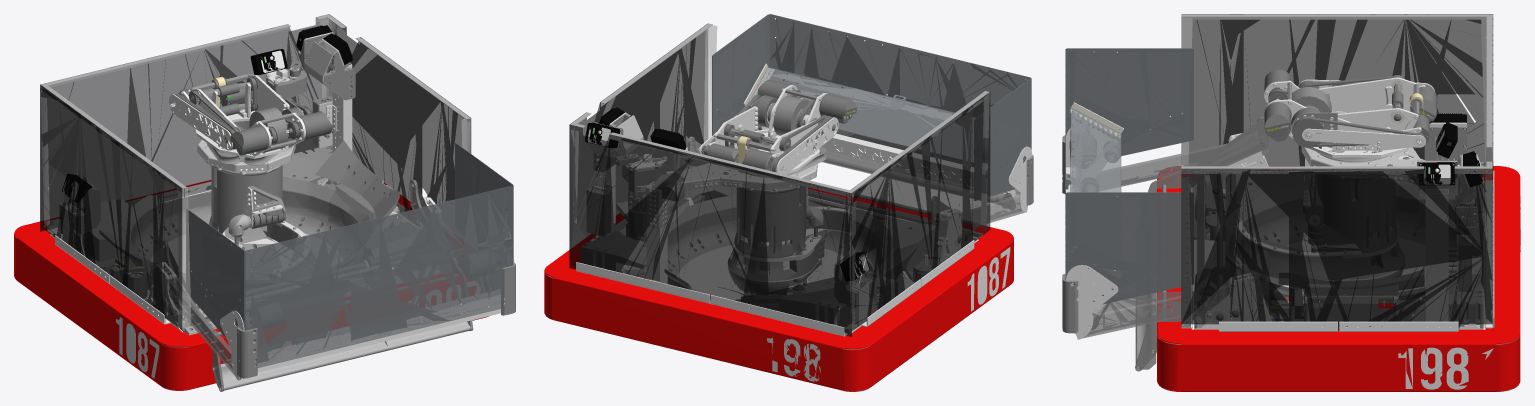
Rendered from 1987-cyclone.fbx.
3 renders of one model, left to right at view 1: azimuth 30°, elevation 25°; view 2: azimuth 150°, elevation 25°; view 3: azimuth 270°, elevation 25°, orthographic. The views are drawn at different scales.
Visible parts, largest first — view 1: Front Hopper Wall, Hopper Wall, Rear hopper wall, Fabric, Hopper Wall Dose, Part 14.001, bar, toob 2 electric toobaloo, 2:00 Wall, 11:00 Wall, Part 14, Back Left Block (+46 smaller); view 2: Rear hopper wall, Fabric, Hopper Wall, Front Hopper Wall, Hopper Wall Dose, top ramp, toob 2 electric toobaloo, Part 14.001, Part 14, bar, Brainpan, 4:00 Wall (+48 smaller); view 3: Hopper Wall Dose, Fabric, Hopper Wall, Part 14, Part 14.001, toob 2 electric toobaloo, top ramp, rack slip & slide, Tube 2"x1"x13.001".001, arm back 3dp, rack slip & slide-Mirrored, Back Left Bumper Backer (+54 smaller).
Part boxes in pixels (x1,y1,x2,y2): Front Hopper Wall: [245, 185, 513, 367]; Hopper Wall: [40, 85, 182, 329]; Rear hopper wall: [40, 14, 328, 231]; Fabric: [14, 180, 488, 390]; Hopper Wall Dose: [329, 14, 471, 212]; Part 14.001: [186, 209, 244, 340]; bar: [257, 294, 504, 372]; toob 2 electric toobaloo: [209, 165, 285, 233]; 2:00 Wall: [282, 177, 335, 234]; 11:00 Wall: [127, 195, 177, 255]; Part 14: [455, 143, 513, 210]; Back Left Block: [61, 199, 130, 261]; Rear hopper wall: [569, 125, 851, 336]; Fabric: [544, 187, 1013, 391]; Hopper Wall: [851, 92, 990, 330]; Front Hopper Wall: [769, 14, 1030, 166]; Hopper Wall Dose: [570, 23, 707, 259]; top ramp: [748, 67, 975, 162]; toob 2 electric toobaloo: [734, 185, 806, 258]; Part 14.001: [974, 78, 1031, 200]; Part 14: [712, 14, 769, 135]; bar: [772, 126, 1010, 193]; Brainpan: [677, 242, 914, 300]; 4:00 Wall: [685, 195, 736, 252]; Hopper Wall Dose: [1181, 168, 1492, 330]; Fabric: [1157, 166, 1520, 391]; Hopper Wall: [1181, 14, 1492, 166]; Part 14: [1066, 192, 1193, 304]; Part 14.001: [1066, 48, 1193, 155]; toob 2 electric toobaloo: [1307, 174, 1396, 252]; top ramp: [1070, 107, 1121, 196]; rack slip & slide: [1082, 285, 1229, 338]; Tube 2"x1"x13.001".001: [1426, 189, 1448, 321]; arm back 3dp: [1312, 226, 1404, 279]; rack slip & slide-Mirrored: [1066, 121, 1269, 190]; Back Left Bumper Backer: [1339, 244, 1494, 331].
Bounding box in the file's own units: 92.41 × 55.32 × 100.
